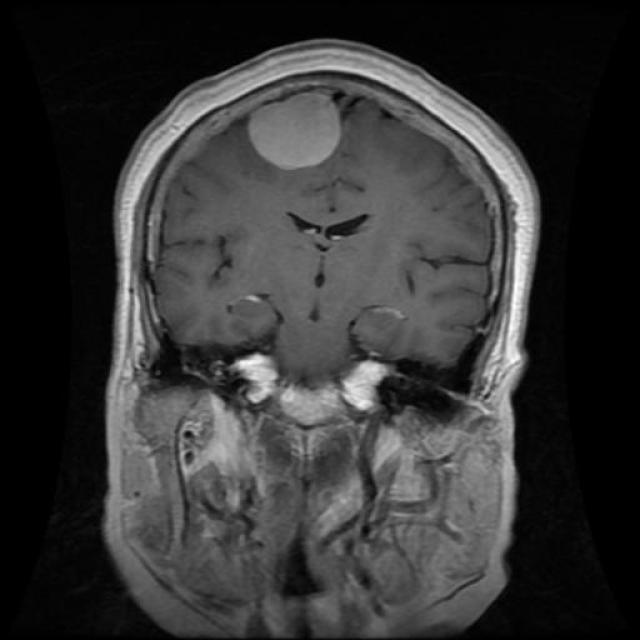meningioma: (248, 92, 342, 172)
